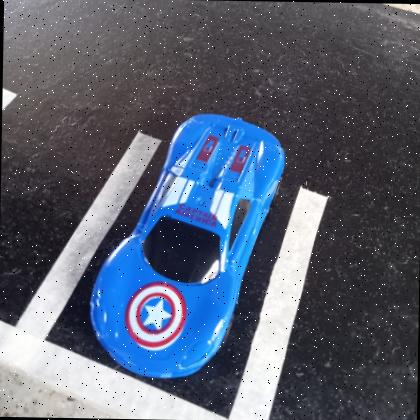Car: (88, 113, 286, 380)
